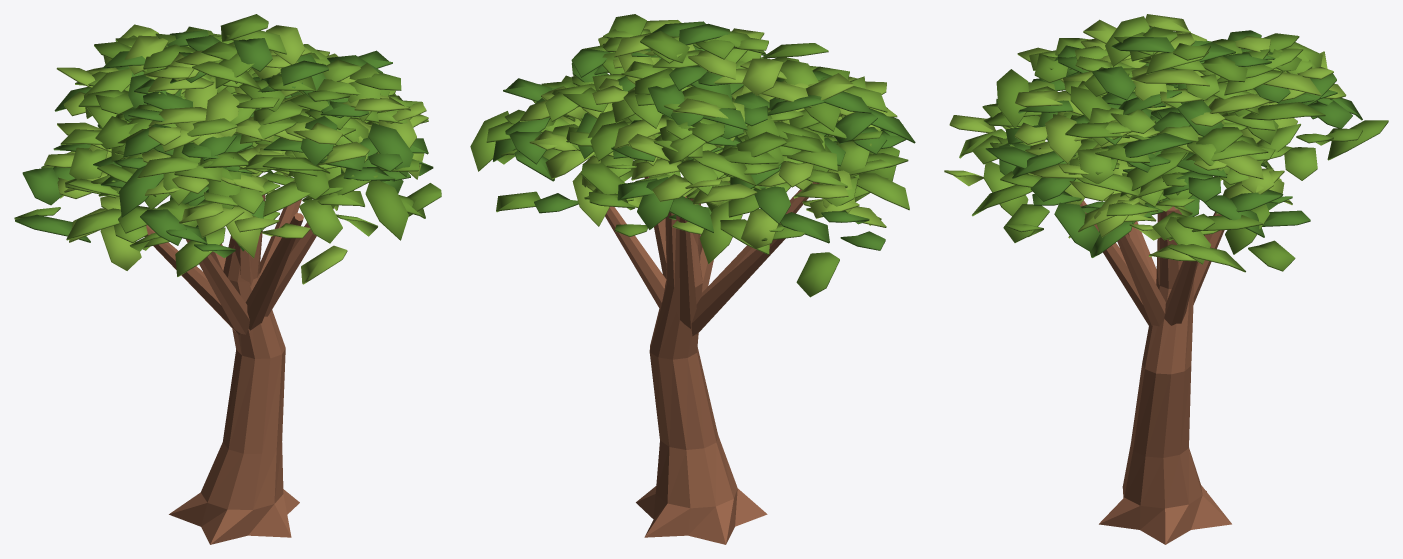
3 views of the same model, side by side, from view 1: azimuth 30°, elevation 25°; view 2: azimuth 150°, elevation 25°; view 3: azimuth 270°, elevation 25° (orthographic).
Parts seen in each view (by area): view 1: tree-chunky-broadleaf; view 2: tree-chunky-broadleaf; view 3: tree-chunky-broadleaf.
Boxes of the visible parts, x1=… form: tree-chunky-broadleaf: x1=14, y1=14, x2=441, y2=544; tree-chunky-broadleaf: x1=470, y1=14, x2=915, y2=544; tree-chunky-broadleaf: x1=944, y1=14, x2=1388, y2=544.
Bounding box in the file's own units: 6.71 × 7.67 × 6.46.
